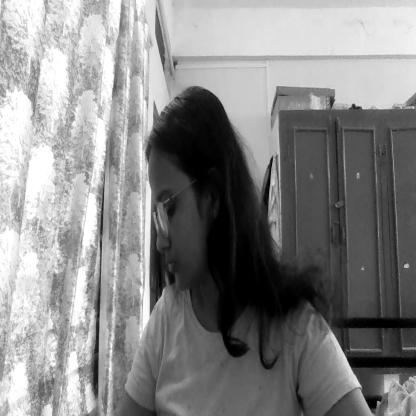Distracted: (144, 86, 238, 300)
